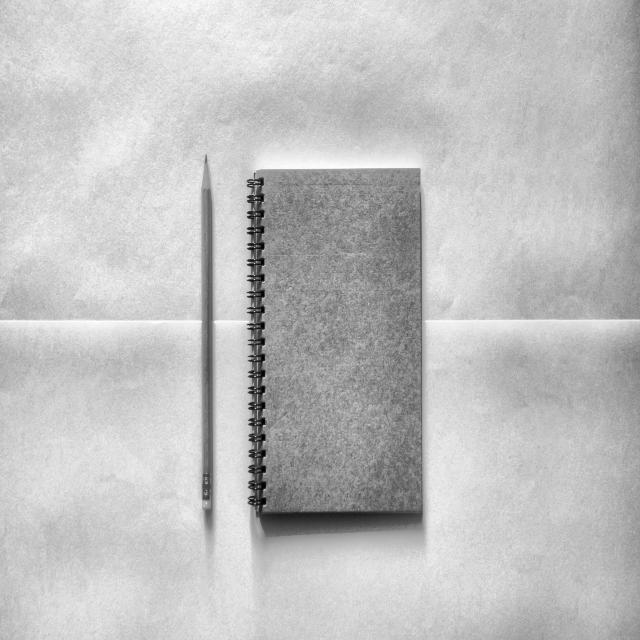Notebook: (245, 167, 424, 518)
